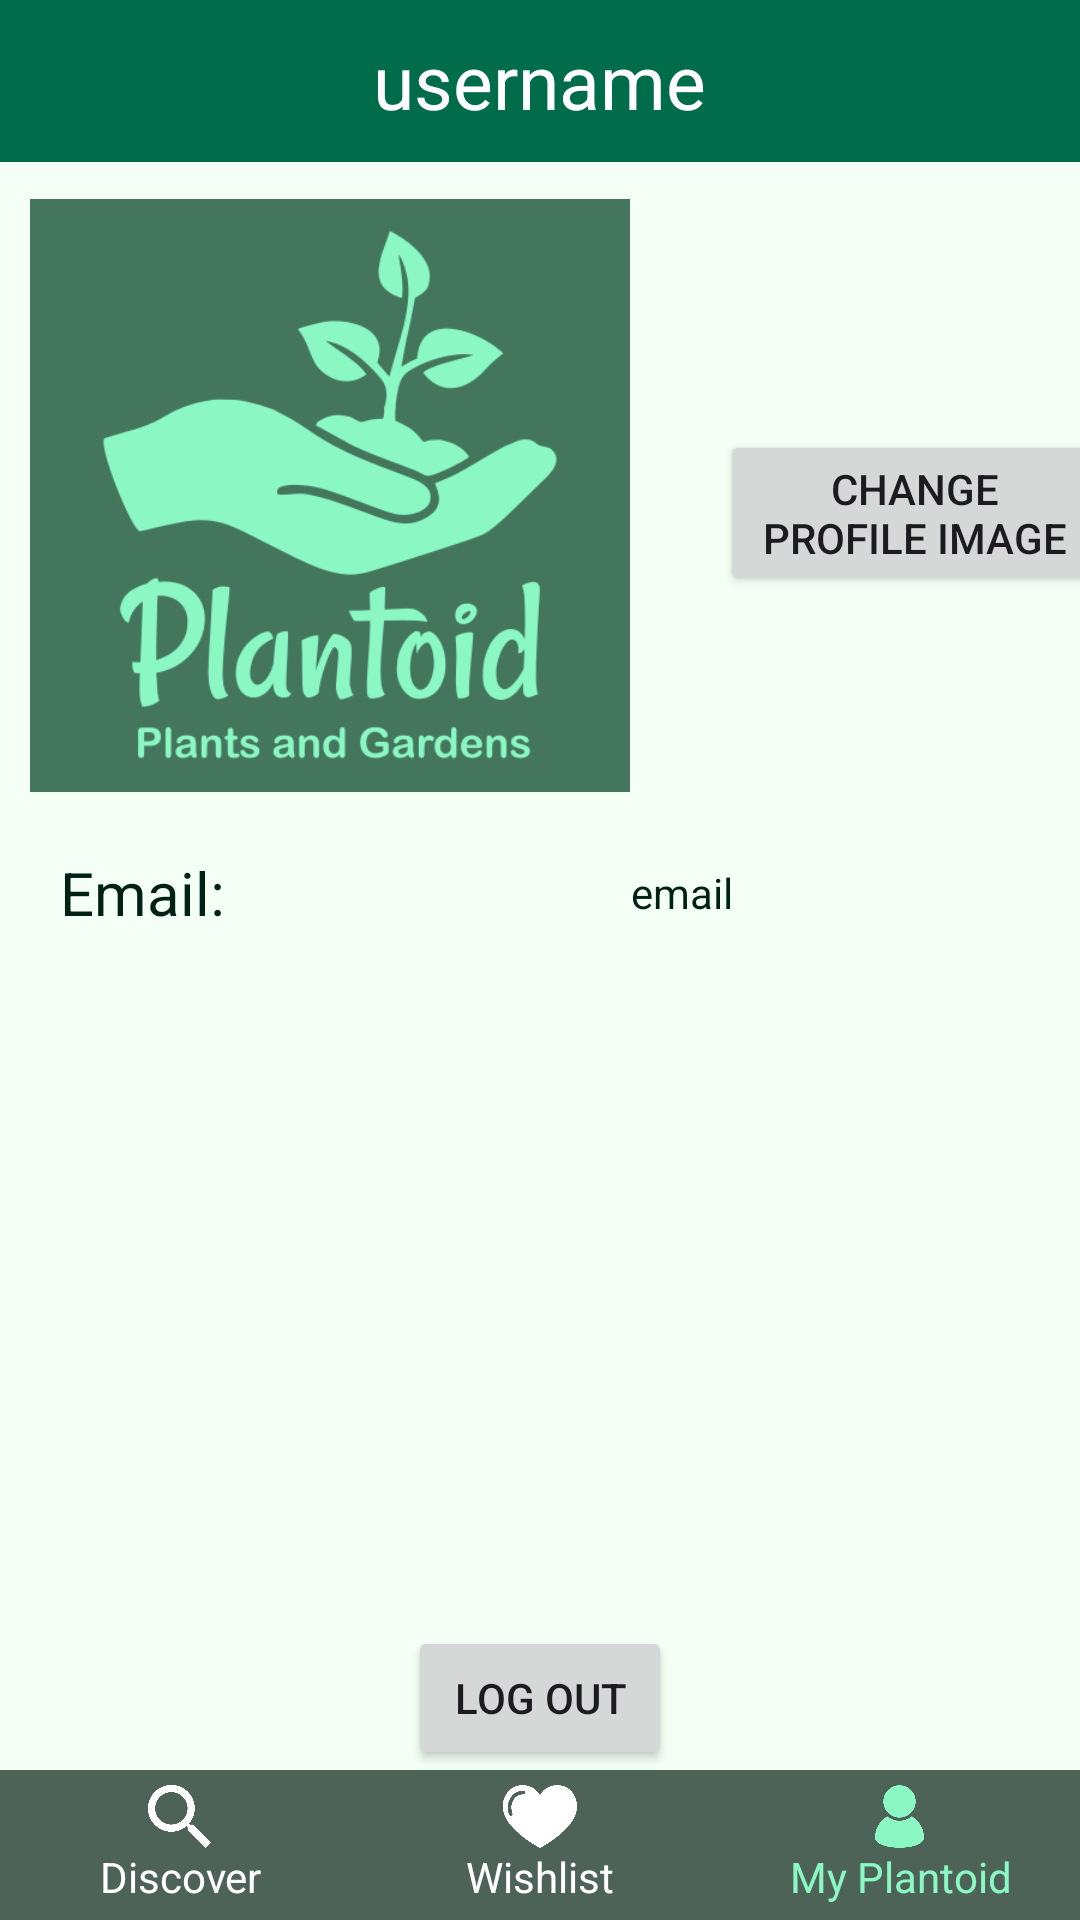

Screen size 1080*1920. Icon name, then its box in pixels as bbox(x1, y1, x2, y2):
profile: bbox(875, 1785, 924, 1848)
